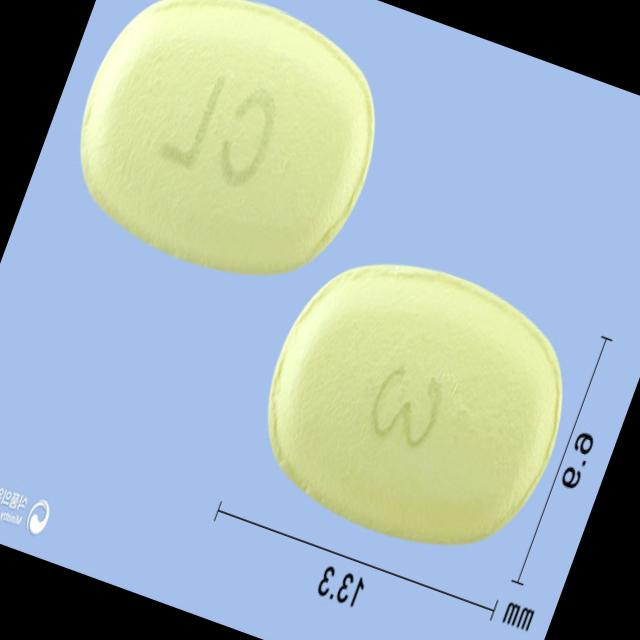Clamin: (229, 223, 602, 582), (42, 0, 414, 310)
